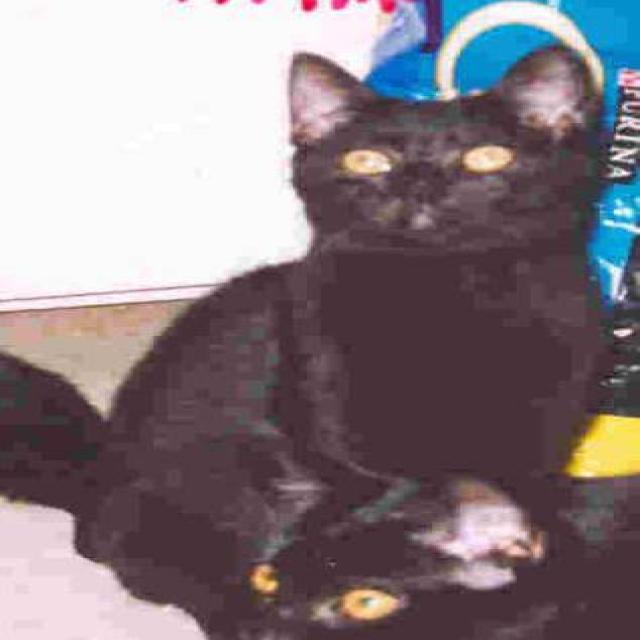cat: (0, 44, 624, 638)
